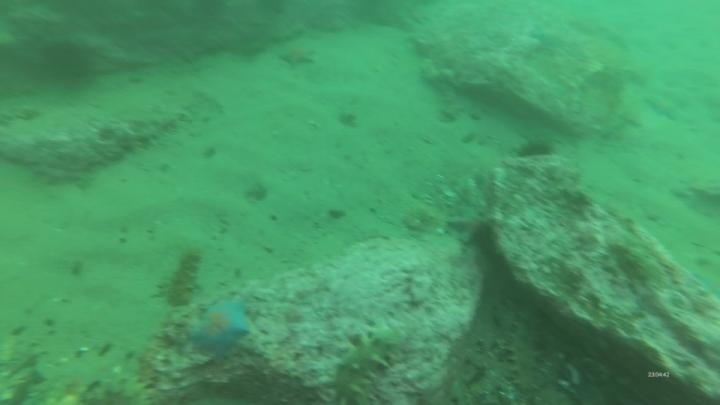echinus: (36, 37, 97, 90), (513, 135, 557, 162)
holothurian: (328, 320, 406, 405), (503, 298, 545, 400), (158, 246, 205, 310)
starfish: (186, 296, 254, 362), (641, 90, 686, 124), (274, 39, 319, 71)
